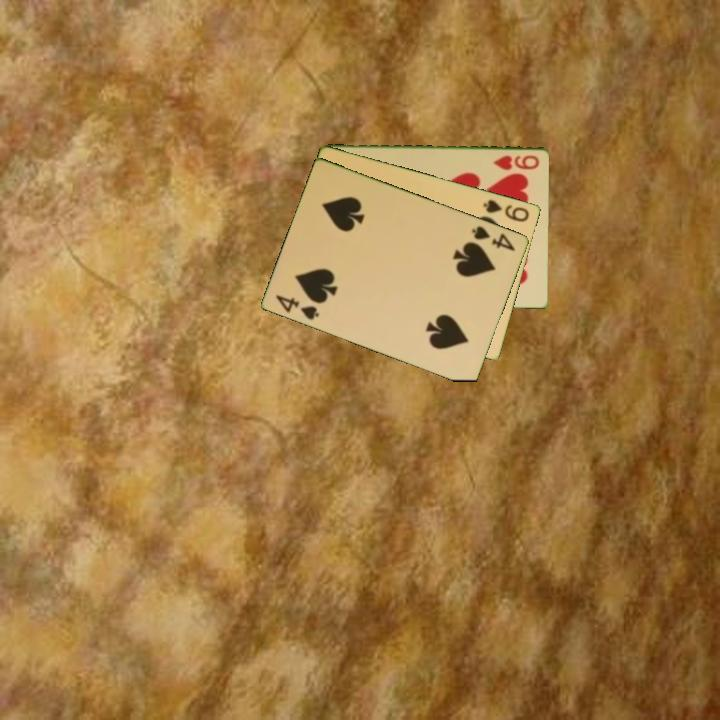4s: (468, 222, 519, 254), (273, 291, 323, 323)
9h: (490, 151, 542, 172)
9s: (480, 196, 532, 225)
